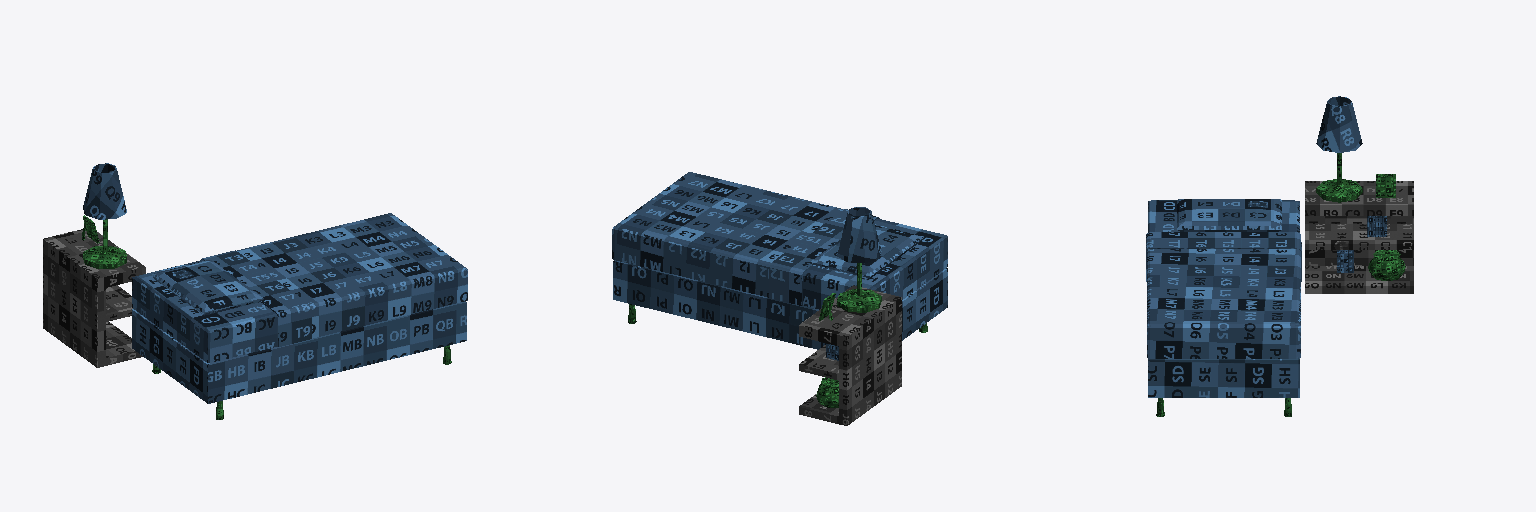
3 views of the same model, side by side, from view 1: azimuth 30°, elevation 25°; view 2: azimuth 150°, elevation 25°; view 3: azimuth 270°, elevation 25° (orthographic).
Parts seen in each view (by area): view 1: Bed, BookShelf, Pillow, LampShade, LampStand; view 2: Bed, BookShelf, Pillow, LampShade, LampStand, Pot; view 3: Bed, BookShelf, Pillow, LampShade, LampStand, Pot.
Boxes of the visible parts, x1=… form: Bed: x1=132, y1=213, x2=467, y2=403; BookShelf: x1=43, y1=229, x2=145, y2=367; Pillow: x1=152, y1=260, x2=263, y2=315; LampShade: x1=83, y1=163, x2=126, y2=219; LampStand: x1=83, y1=219, x2=126, y2=268; Bed: x1=612, y1=172, x2=947, y2=349; BookShelf: x1=799, y1=285, x2=901, y2=425; Pillow: x1=811, y1=225, x2=922, y2=278; LampShade: x1=837, y1=207, x2=881, y2=262; LampStand: x1=837, y1=263, x2=881, y2=312; Pot: x1=816, y1=377, x2=838, y2=407; Bed: x1=1146, y1=200, x2=1301, y2=397; BookShelf: x1=1305, y1=181, x2=1413, y2=293; Pillow: x1=1177, y1=199, x2=1281, y2=231; LampShade: x1=1316, y1=96, x2=1362, y2=152; LampStand: x1=1316, y1=153, x2=1362, y2=202; Pot: x1=1368, y1=250, x2=1405, y2=280.
Bounding box in the file's own units: 14.58 × 9.08 × 11.6.
Materials: 5 (3 with a texture image).